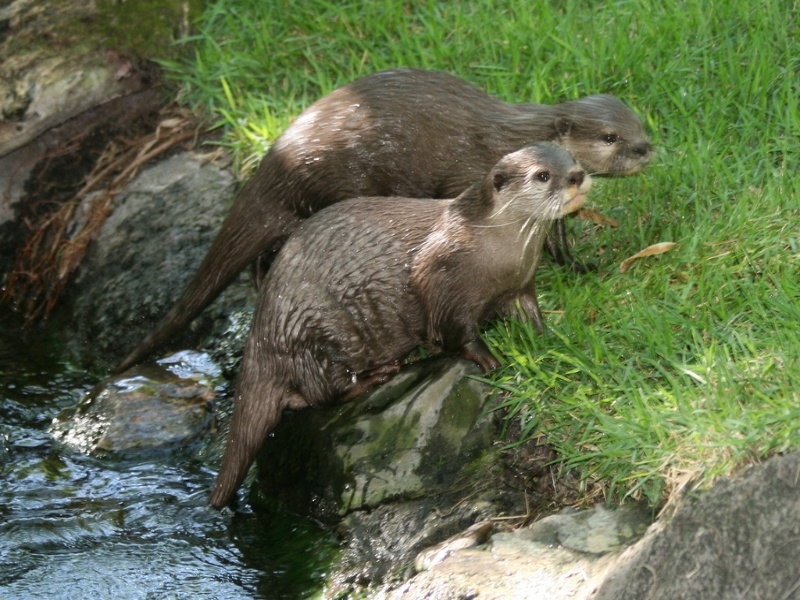minkish: (104, 64, 660, 373), (210, 139, 587, 514)
